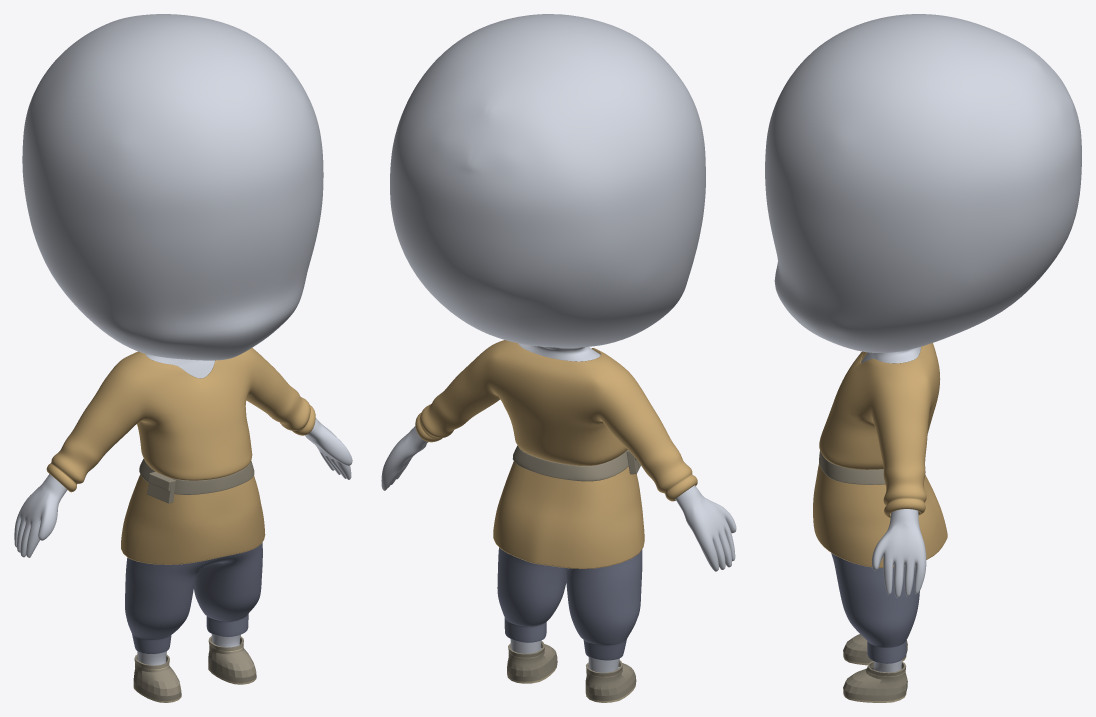
File: Blue.fbx
3 renders of one model, left to right at view 1: azimuth 30°, elevation 25°; view 2: azimuth 150°, elevation 25°; view 3: azimuth 270°, elevation 25°, orthographic. The views are drawn at different scales.
Visible parts, largest first — view 1: Body3; view 2: Body3; view 3: Body3.
Boxes of the visible parts, x1,y1,x2,y2 form: Body3: [14, 14, 352, 702]; Body3: [381, 14, 736, 702]; Body3: [765, 14, 1081, 702].
Bounding box in the file's own units: 3.41 × 6.33 × 2.82.
